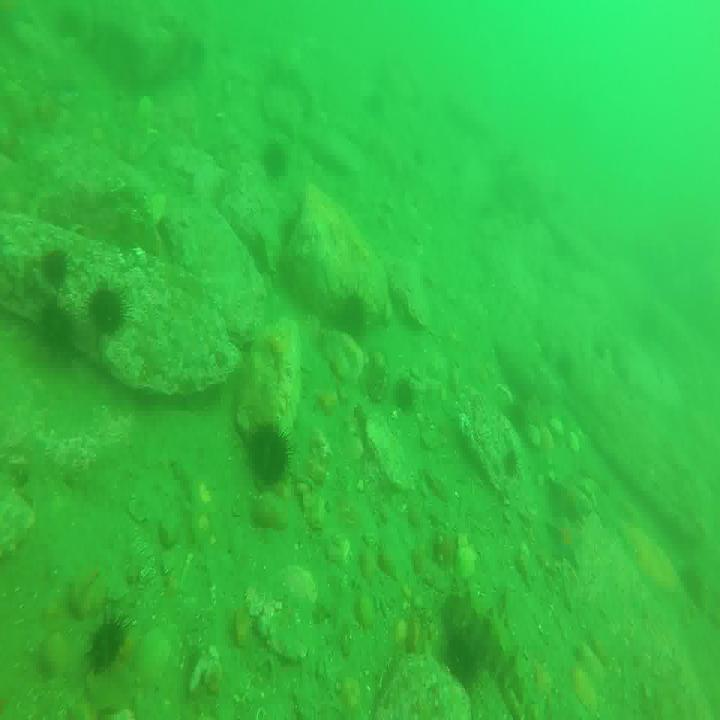echinus: (249, 417, 288, 487), (40, 304, 80, 363), (90, 610, 126, 664), (87, 287, 127, 335), (262, 136, 287, 183), (40, 248, 68, 289), (397, 373, 423, 413), (341, 294, 363, 335)
holothurian: (446, 592, 549, 720)
